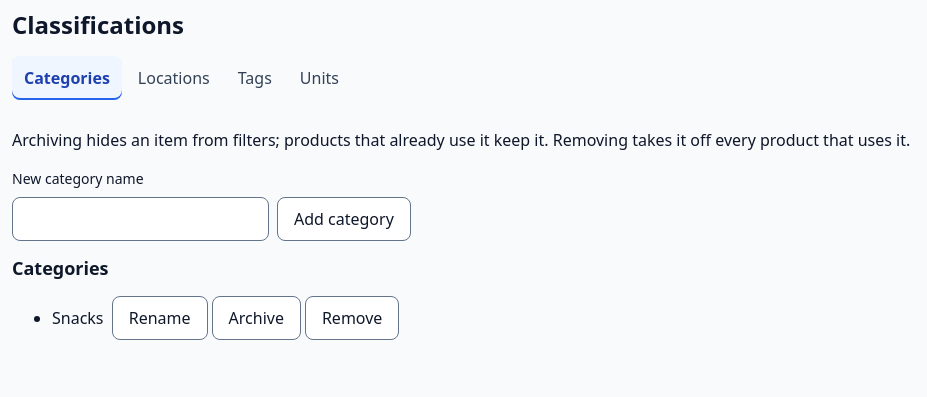
Test: ClassificationsPage › Categories › archive and restore › archives without any confirmation and refreshes
The width and height of the screenshot is (927, 397).
Click the button with aria-label "Archive Snacks": (256, 318) 212,296 -> 301,340
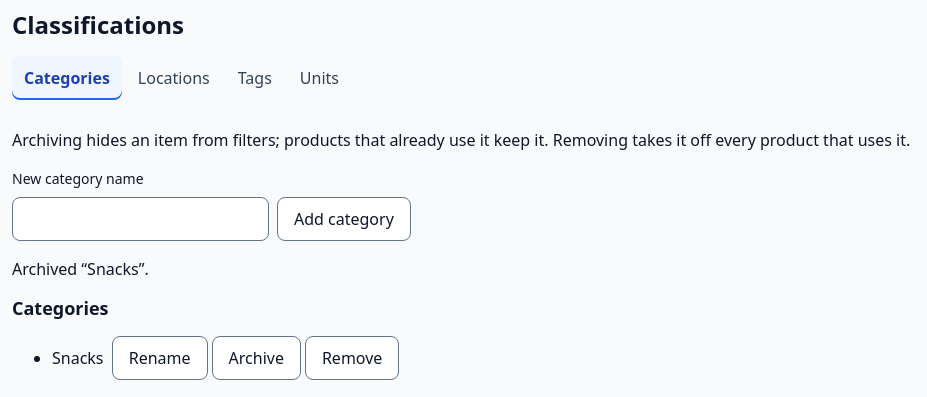
Expected: the text "Archived “Snacks”." is shown, 12,258 -> 149,280
